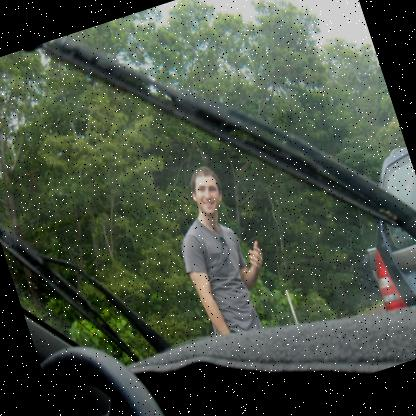Car: (0, 0, 415, 415), (299, 105, 415, 310)
